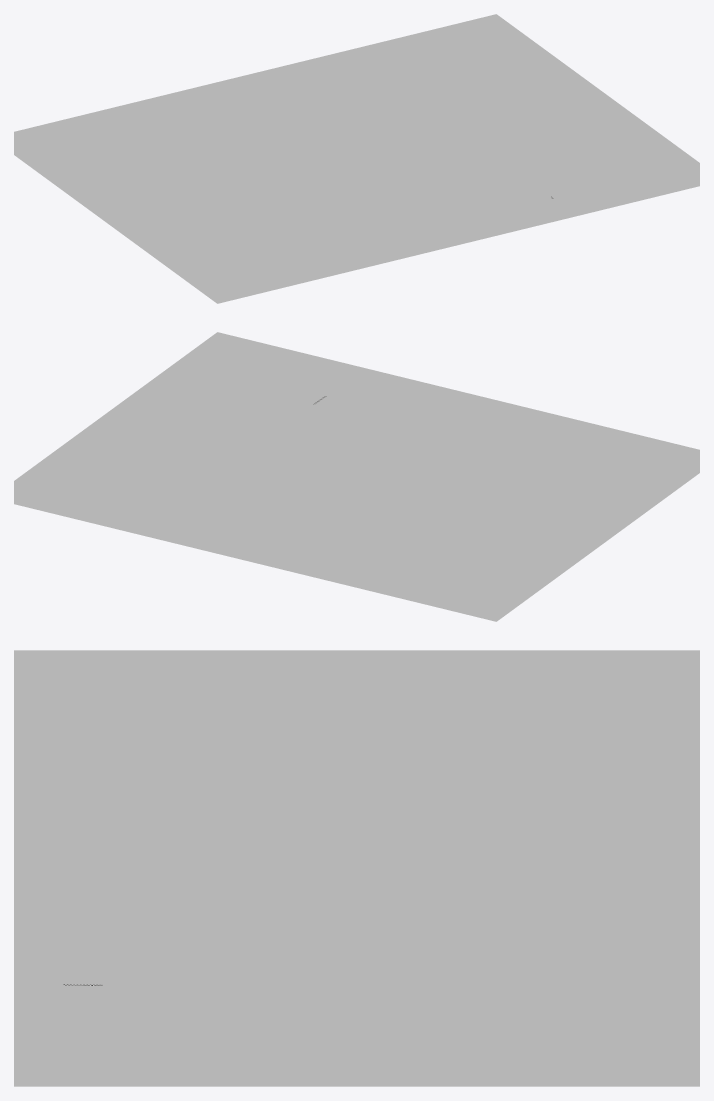
The model's file is jyllandsringen_pro_cw.dae.
3 renders of one model, top to bottom at view 1: azimuth 30°, elevation 25°; view 2: azimuth 150°, elevation 25°; view 3: azimuth 270°, elevation 25°, orthographic. The views are drawn at different scales.
Visible parts, largest first — view 1: field, wall, road, il, ol, cl; view 2: field, wall, road, il, ol, cl; view 3: field, wall, road, ol, il, cl.
Part boxes in pixels (box(x1,y1,x2,y2)): field: box(38, 37, 675, 280); wall: box(14, 14, 699, 303); road: box(116, 124, 656, 253); il: box(139, 134, 635, 245); ol: box(114, 123, 657, 254); cl: box(127, 129, 645, 250); field: box(38, 355, 675, 598); wall: box(14, 332, 699, 621); road: box(178, 372, 569, 583); il: box(201, 382, 547, 576); ol: box(176, 371, 570, 584); cl: box(189, 377, 559, 580); field: box(14, 689, 699, 1047); wall: box(14, 650, 699, 1086); road: box(50, 704, 663, 1047); ol: box(47, 703, 666, 1047); il: box(90, 721, 624, 1047); cl: box(69, 713, 644, 1046).
Size of the model in its own units: 21.79 by 15.91 by 1.
